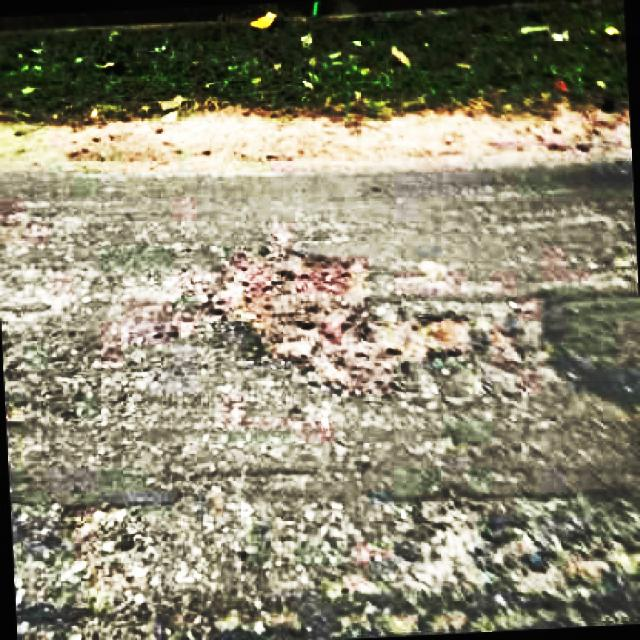pothole: (214, 240, 375, 357)
